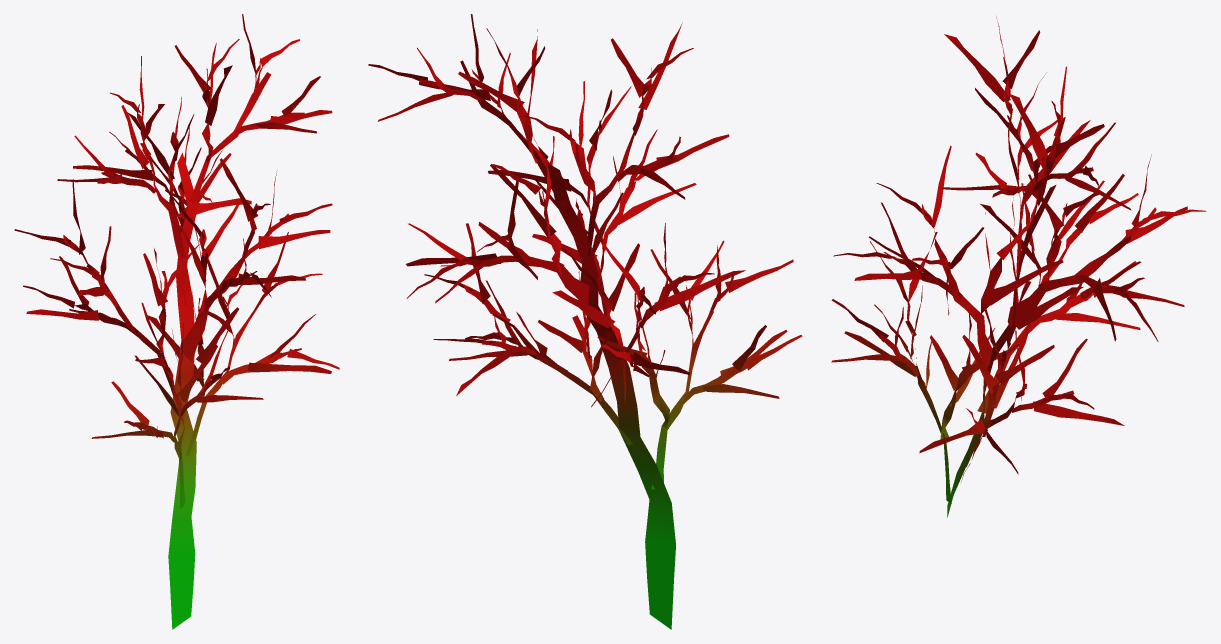
Rendered from Rose Hip_LOD4_Var9.fbx.
3 renders of one model, left to right at view 1: azimuth 30°, elevation 25°; view 2: azimuth 150°, elevation 25°; view 3: azimuth 270°, elevation 25°, orthographic. The views are drawn at different scales.
Visible parts, largest first — view 1: _hixs_Var9_LOD4; view 2: _hixs_Var9_LOD4; view 3: _hixs_Var9_LOD4.
Boxes of the visible parts, bbox=[...] form: _hixs_Var9_LOD4: bbox=[14, 14, 339, 629]; _hixs_Var9_LOD4: bbox=[368, 14, 802, 629]; _hixs_Var9_LOD4: bbox=[831, 16, 1206, 517].
Size of the model in its own units: 62.41 by 114 by 64.28.
